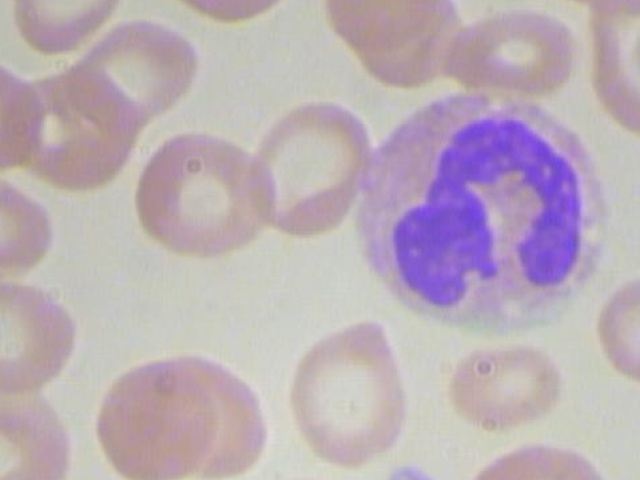Platelets: (381, 454, 443, 480)
RBC: (238, 93, 381, 249), (127, 124, 277, 261), (63, 11, 221, 138), (282, 318, 411, 472), (85, 341, 216, 480), (433, 4, 583, 100), (438, 337, 568, 438), (0, 269, 83, 400), (577, 0, 640, 142), (0, 164, 65, 299), (0, 374, 75, 480), (450, 431, 611, 480), (315, 0, 447, 59), (7, 0, 134, 59), (585, 258, 640, 390), (0, 51, 47, 178), (231, 475, 373, 480)
WBC: (347, 85, 614, 338)
